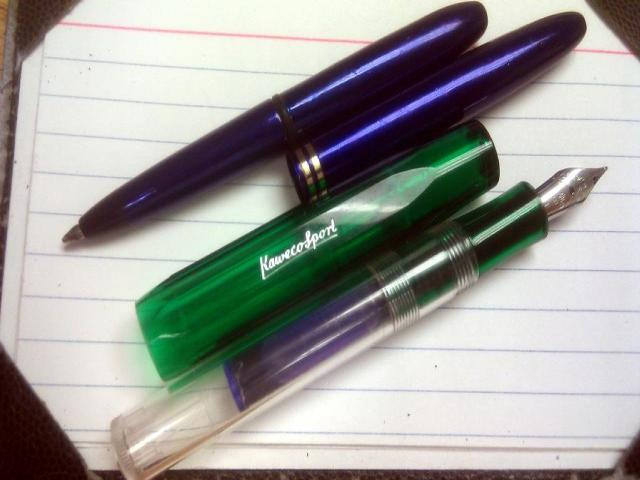PEN: (91, 134, 626, 480)
